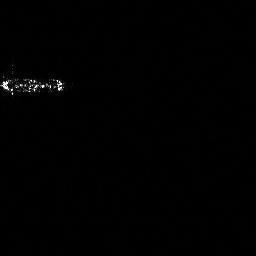ship: (1, 78, 80, 97)
